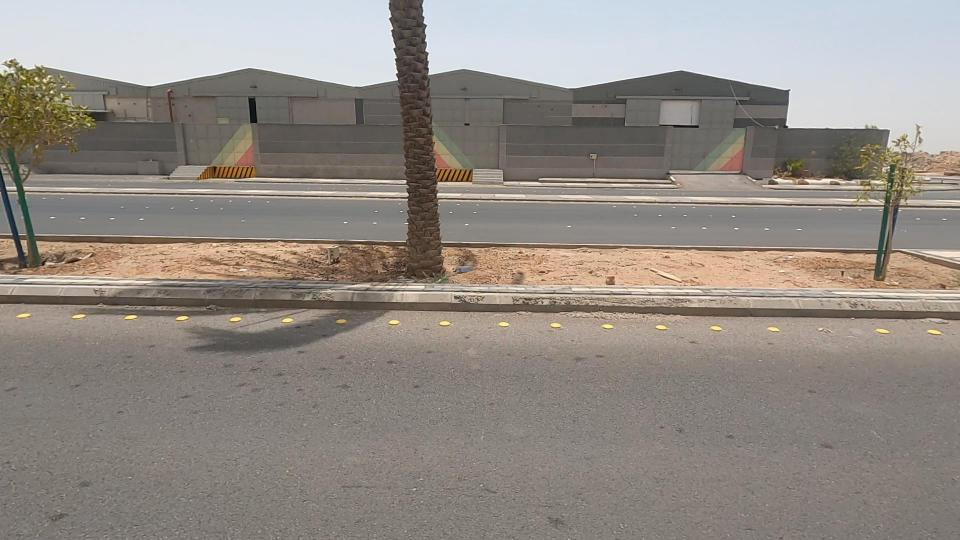CLUTTER_SIDEWALK: (326, 187, 960, 353), (0, 195, 493, 321)
GARBAGE: (612, 255, 712, 303), (413, 247, 503, 289)
